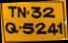character: (5, 21, 19, 34), (34, 21, 47, 35), (42, 6, 56, 18), (22, 21, 34, 35), (30, 5, 42, 18), (7, 5, 18, 18), (47, 22, 58, 34), (17, 5, 27, 18), (57, 21, 64, 35)
